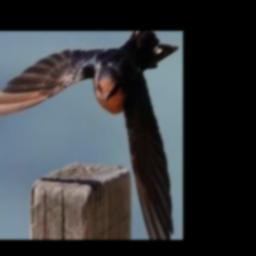Swallow: (0, 31, 179, 240)
